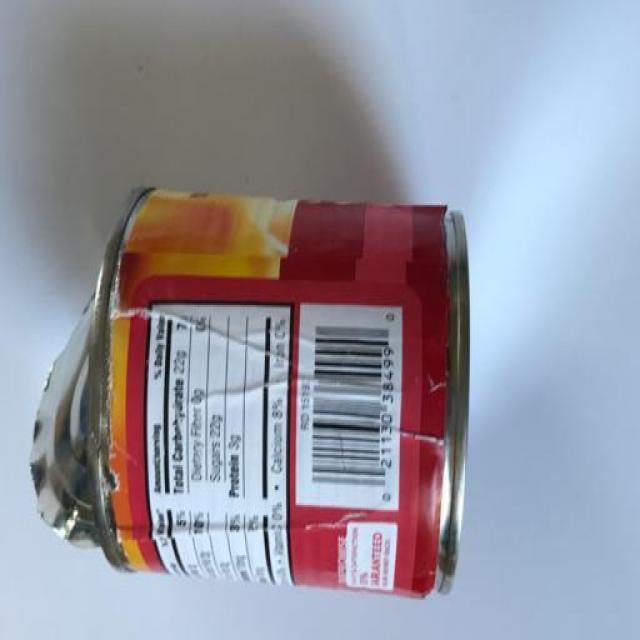metel: (17, 174, 492, 640)
